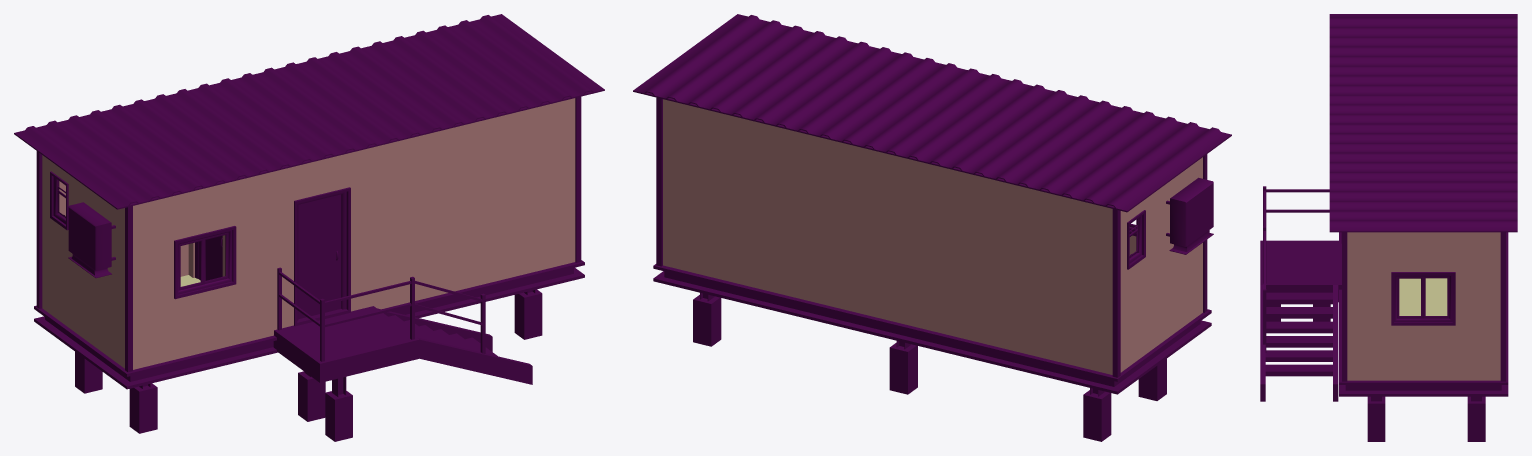
Rendered from PortableOffice.FBX.
The picture shows the model from 3 angles, left to right: view 1: azimuth 30°, elevation 25°; view 2: azimuth 150°, elevation 25°; view 3: azimuth 270°, elevation 25°; orthographic projection. The views are drawn at different scales.
Parts seen in each view (by area): view 1: PortableOffice, Door1, Door2; view 2: PortableOffice; view 3: PortableOffice.
Part boxes in pixels (bbox=[...]): PortableOffice: bbox=[14, 14, 604, 441]; Door1: bbox=[298, 194, 341, 319]; Door2: bbox=[198, 236, 222, 280]; PortableOffice: bbox=[633, 14, 1231, 441]; PortableOffice: bbox=[1260, 14, 1517, 441].
Bounding box in the file's own units: 10.43 × 5.17 × 5.21.
